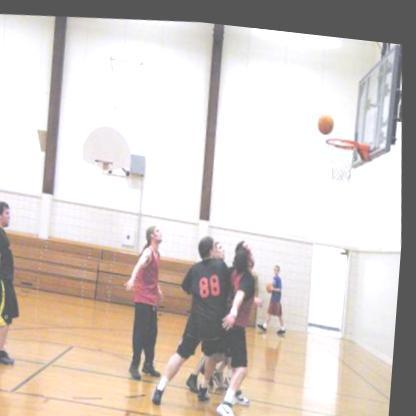basketball: (317, 103, 338, 130)
rim: (324, 126, 360, 146), (97, 156, 115, 164)
